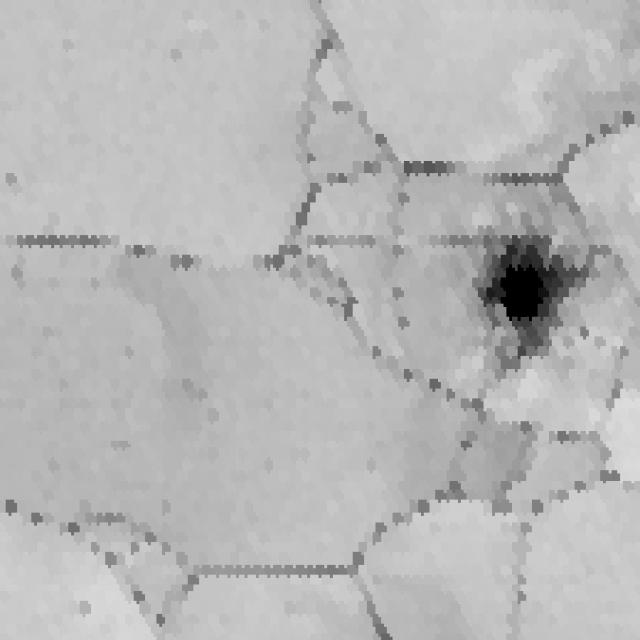good_void: (472, 217, 604, 377), (2, 163, 25, 190), (10, 264, 30, 287)
